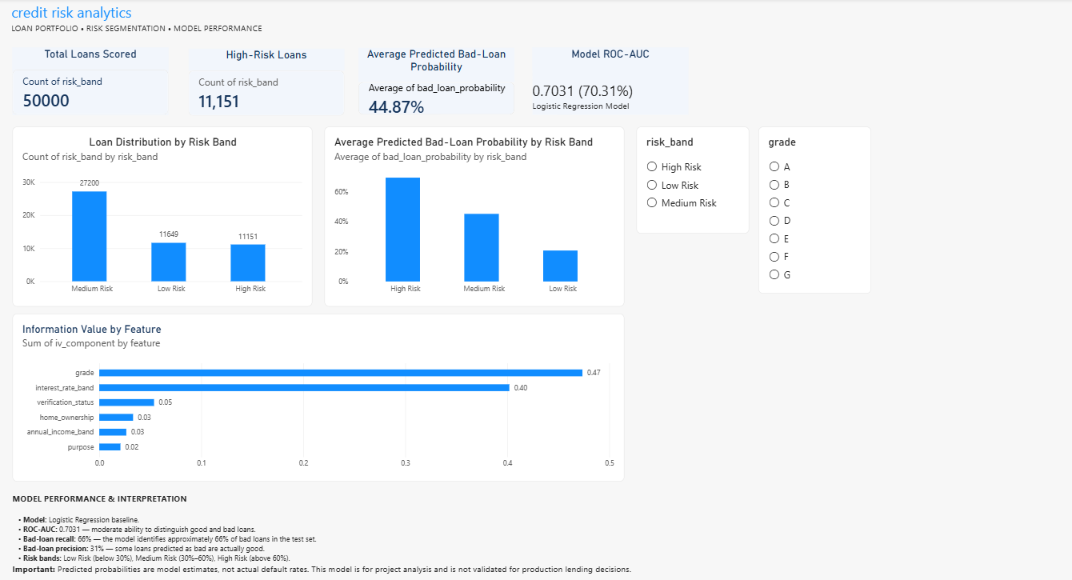

The dashboard page shown, as its layout file describes it:
{"tool":"powerbi","page":{"name":"Credit Risk Dashboard","canvas":[1920,1080],"ordinal":1},"visuals":[{"type":"clusteredColumnChart","title":"Loan Distribution by Risk Band","fields":{"Category":["credit_risk_scored_detail.risk_band"],"Y":["CountNonNull(credit_risk_scored_detail.risk_band)"]},"box":[22.5,227.5,500,300],"z":0},{"type":"clusteredColumnChart","title":"Average Predicted Bad-Loan Probability by Risk Band","fields":{"Category":["credit_risk_scored_detail.risk_band"],"Y":["Avg(credit_risk_scored_detail.bad_loan_probability)"]},"box":[542.5,227.5,500,300],"z":1},{"type":"cardVisual","title":"Total Loans Scored","fields":{"Data":["CountNonNull(credit_risk_scored_detail.risk_band)"]},"box":[22.5,96.2,260,112.5],"z":2},{"type":"cardVisual","title":"High-Risk Loans","fields":{"Data":["CountNonNull(credit_risk_scored_detail.risk_band)"]},"box":[316.2,97.5,260,112],"z":3},{"type":"cardVisual","title":"Average Predicted Bad-Loan Probability","fields":{"Data":["Avg(credit_risk_scored_detail.bad_loan_probability)"]},"box":[600.7,96,260,112],"z":4},{"type":"textbox","title":"\tModel ROC-AUC","box":[890,96,260,112],"z":16},{"type":"textbox","box":[22,22,588,74],"z":17},{"type":"clusteredBarChart","title":"Information Value by Feature","fields":{"Category":["woe_analysis.feature"],"Y":["Sum(woe_analysis.iv_component)"]},"box":[22.5,540,1020,280],"z":18},{"type":"textbox","box":[22.5,837.5,1407.5,233.8],"z":19},{"type":"listSlicer","fields":{"Values":["credit_risk_scored_detail.risk_band"]},"box":[1064,228,188,178],"z":20},{"type":"listSlicer","fields":{"Values":["credit_risk_scored_detail.grade"]},"box":[1266,228,188,278],"z":21}]}

Visuals, with their boxes on the page's 1920x1080 design canvas (x1, y1, x2, y2). These are canvas units, not pixel positions in the 1072x580 screenshot, which may show the page scaled, cropped or inside an application window:
"Loan Distribution by Risk Band" clusteredColumnChart: Rect(22, 228, 522, 528)
"Average Predicted Bad-Loan Probability by Risk Band" clusteredColumnChart: Rect(542, 228, 1042, 528)
"Total Loans Scored" cardVisual: Rect(22, 96, 282, 209)
"High-Risk Loans" cardVisual: Rect(316, 98, 576, 210)
"Average Predicted Bad-Loan Probability" cardVisual: Rect(601, 96, 861, 208)
"	Model ROC-AUC" textbox: Rect(890, 96, 1150, 208)
textbox: Rect(22, 22, 610, 96)
"Information Value by Feature" clusteredBarChart: Rect(22, 540, 1042, 820)
textbox: Rect(22, 838, 1430, 1071)
listSlicer - credit_risk_scored_detail.risk_band: Rect(1064, 228, 1252, 406)
listSlicer - credit_risk_scored_detail.grade: Rect(1266, 228, 1454, 506)
